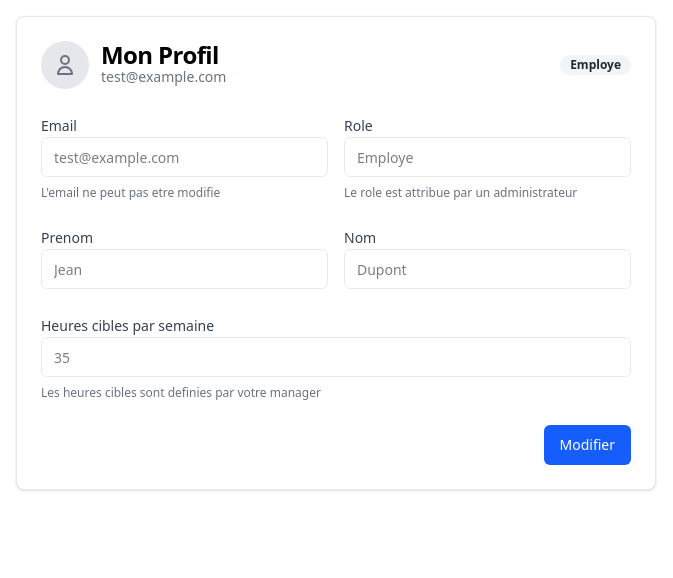
ProfilePage › Profile Update - AC3 › shows success message after successful update
This screenshot has width=673, height=578.
Expected: the heading "Mon Profil" is shown, left=101, top=43, right=226, bottom=67
Click the button "Modifier" at (587, 445), box left=544, top=425, right=631, bottom=465
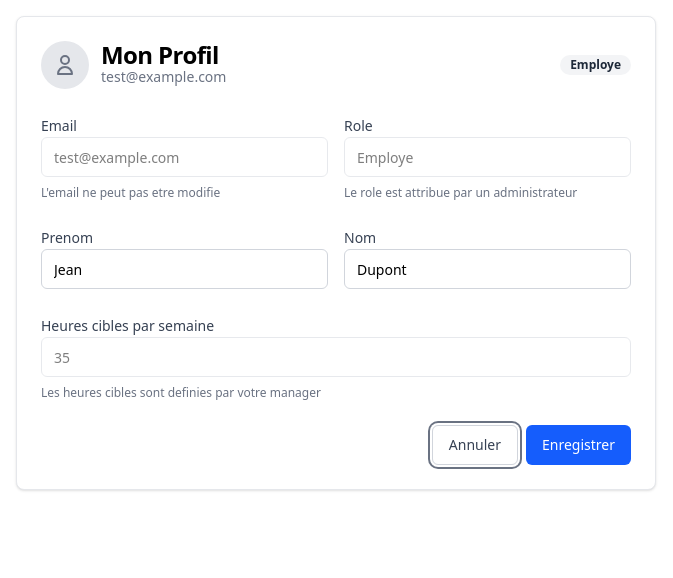
Click the button "Enregistrer" at (578, 445), box left=526, top=425, right=631, bottom=465
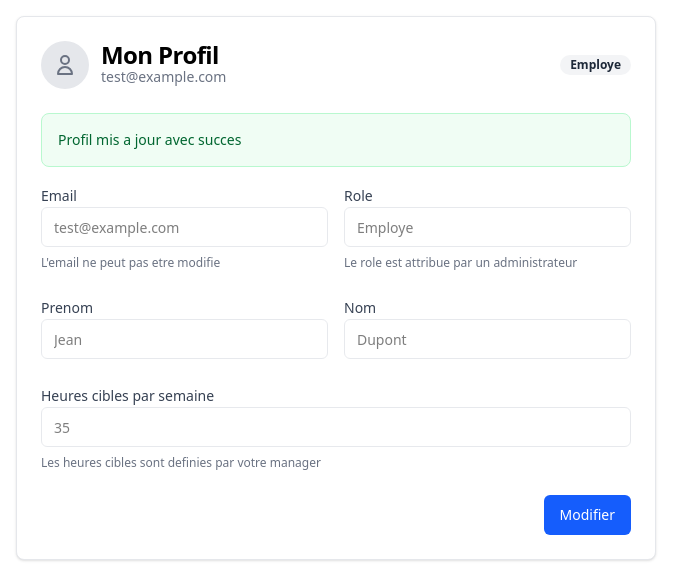
Expected: the text "Profil mis a jour avec succes" is shown, left=58, top=130, right=242, bottom=149
